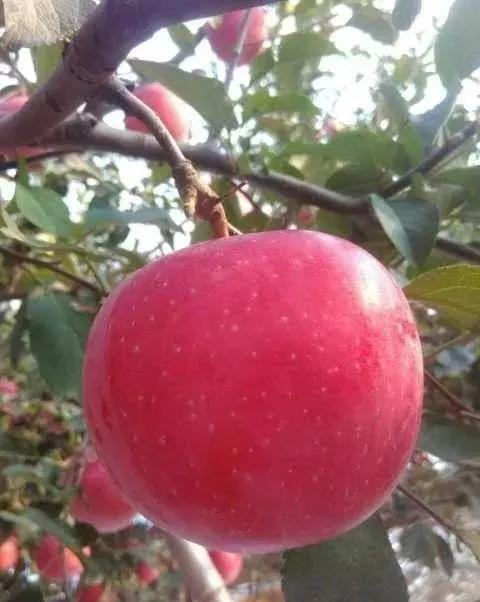apple: (75, 227, 419, 549)
